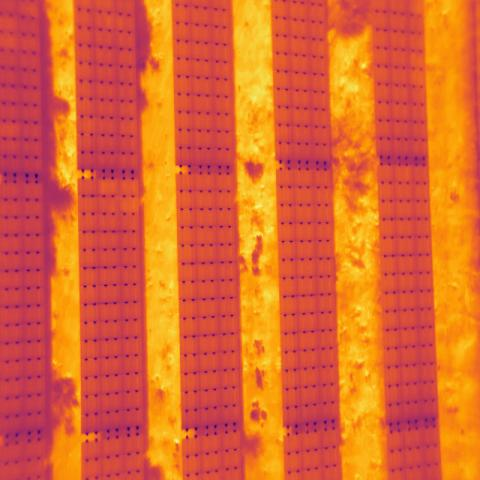fault: (120, 180, 138, 214), (98, 179, 118, 196)
